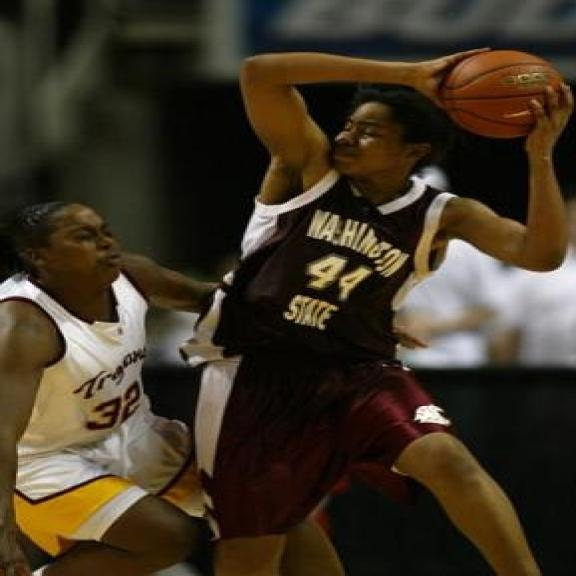face: (325, 96, 441, 186), (18, 204, 132, 289)
